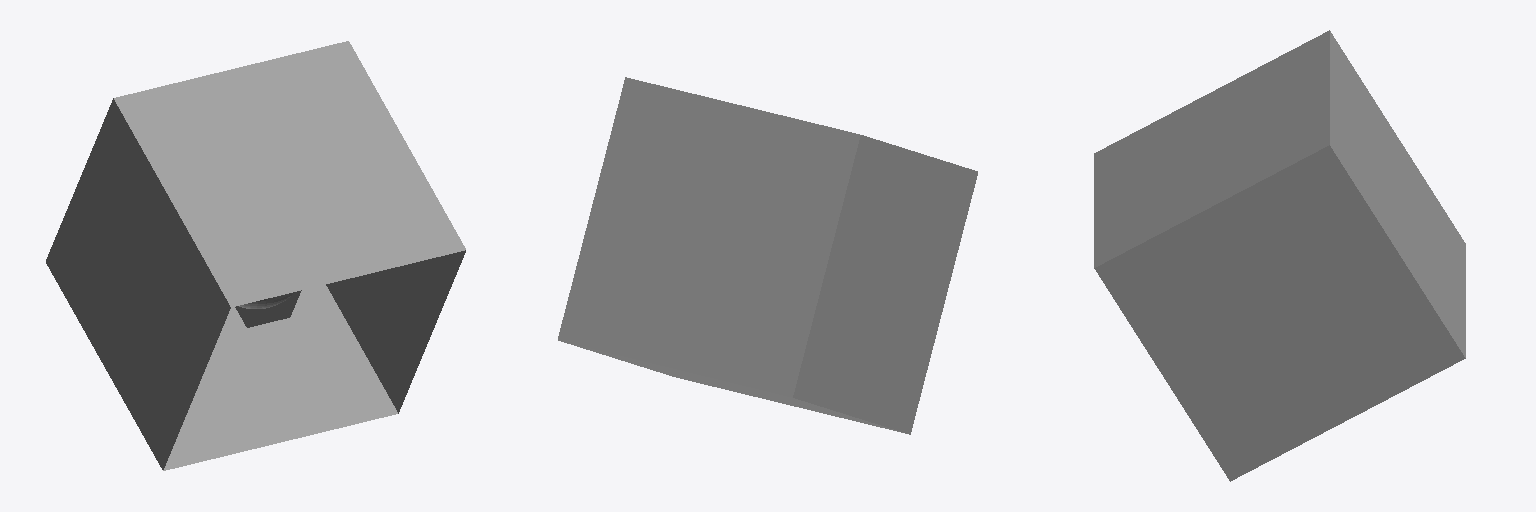
The model's file is sphere_light_test.obj.
The picture shows the model from 3 angles: view 1: azimuth 30°, elevation 25°; view 2: azimuth 150°, elevation 25°; view 3: azimuth 270°, elevation 25°; orthographic projection.
Parts seen in each view (by area): view 1: Cube, Cube.001; view 2: Cube; view 3: Cube.
Part boxes in pixels (left/top/right/bottom): Cube: left=46, top=41, right=465, bottom=470; Cube.001: left=235, top=290, right=301, bottom=327; Cube: left=558, top=77, right=977, bottom=434; Cube: left=1094, top=30, right=1465, bottom=481.
Size of the model in its own units: 0.8717 by 1.19 by 1.19.